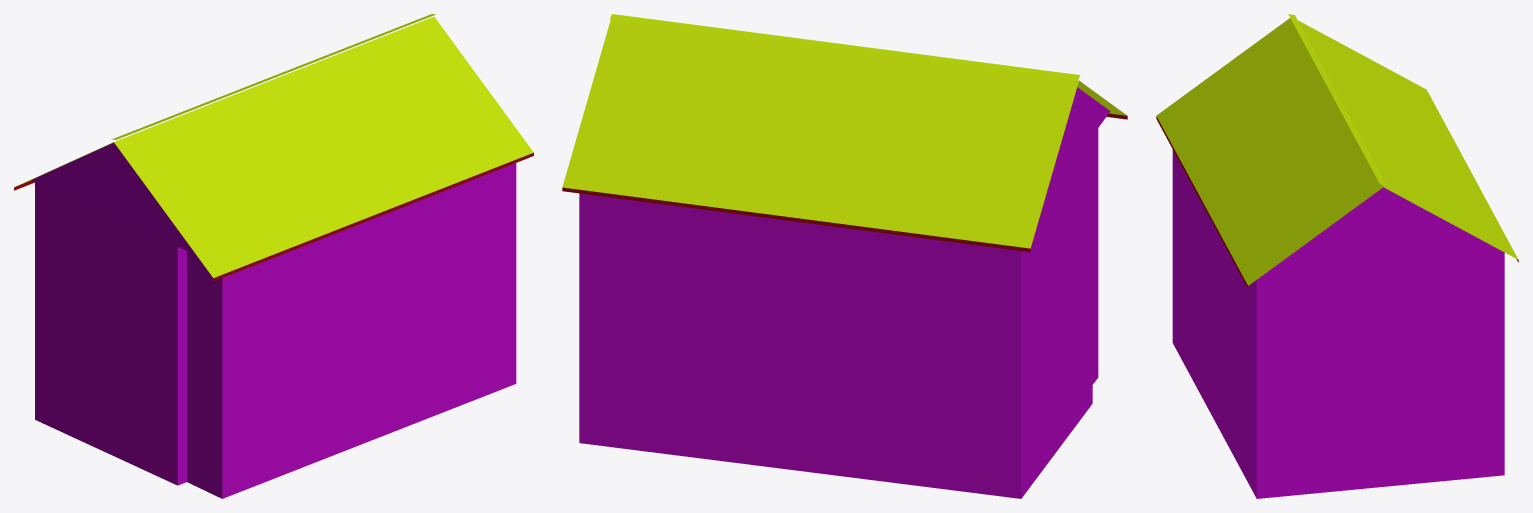
Rendered from sjs_6.glb.
3 renders of one model, left to right at view 1: azimuth 30°, elevation 25°; view 2: azimuth 150°, elevation 25°; view 3: azimuth 270°, elevation 25°, orthographic. The views are drawn at different scales.
Parts seen in each view (by area): view 1: sjs_6; view 2: sjs_6; view 3: sjs_6.
Boxes of the visible parts, x1,y1,x2,y2 form: sjs_6: [14, 14, 533, 498]; sjs_6: [562, 14, 1127, 498]; sjs_6: [1156, 14, 1518, 498].
Size of the model in its own units: 16.07 by 11.74 by 12.52.
